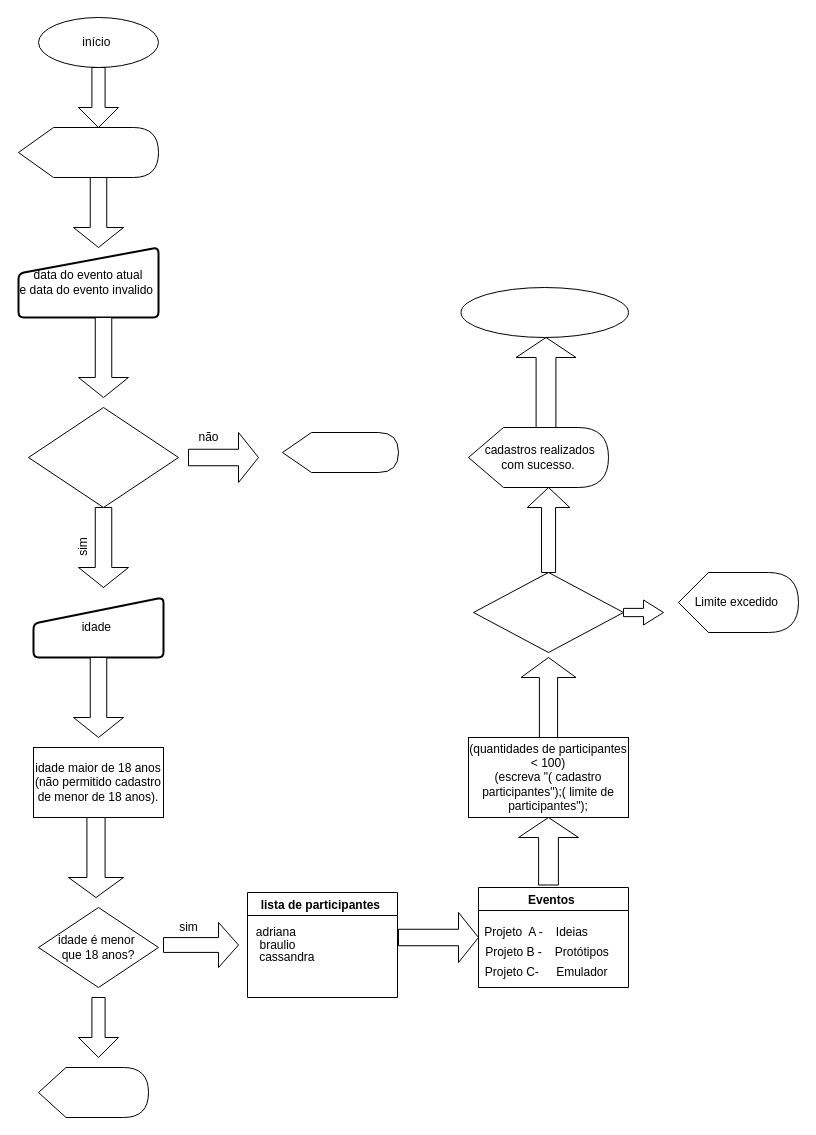
Image size: 816x1135. Some labels were removed from this diagram. The centre of each missing label's shape, as x and y in pixels:
data do evento é menor que a data atual: point 103,457
data invalida: point 340,452
excede o limite de 100: point 548,612
Fim: point 544,312
informe o nome do evento: point 88,152
não permite entrada de menor de 18 anos: point 93,1092
